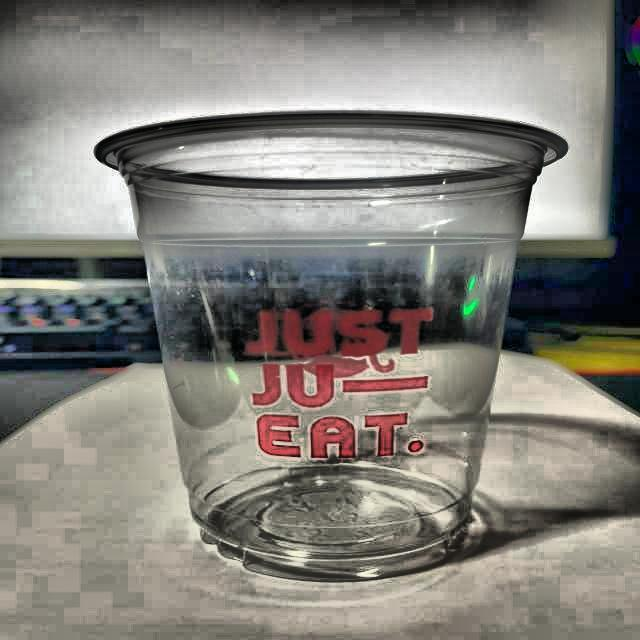plastic cup: (91, 109, 574, 586)
